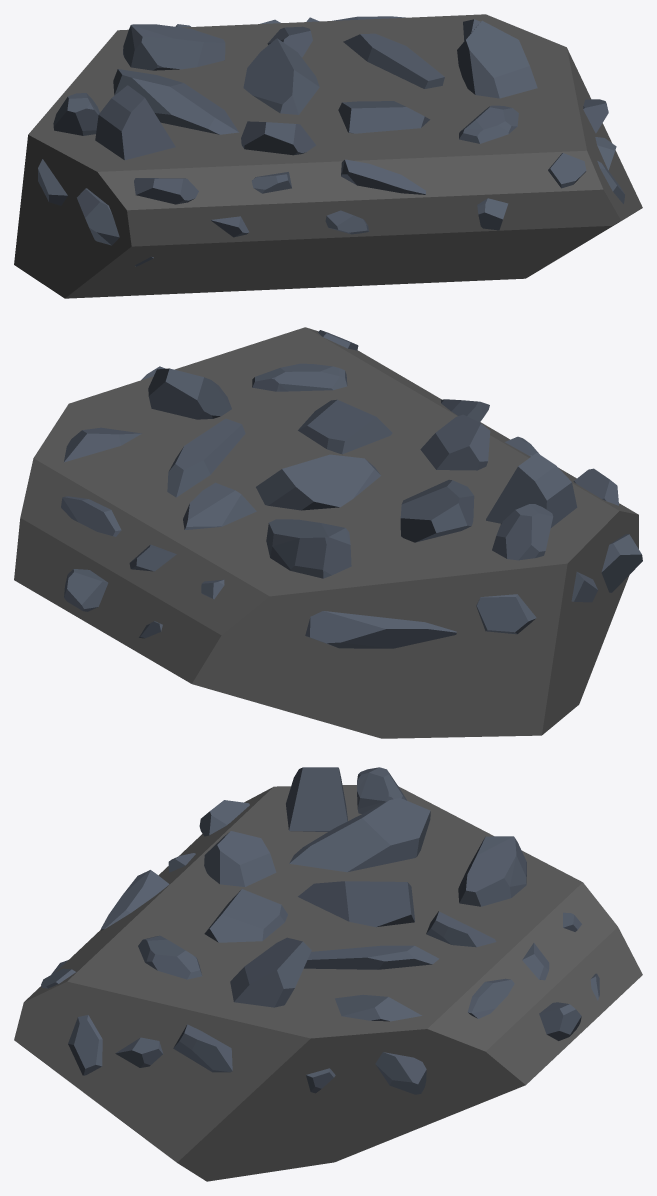
The model's file is Metal_Deposit_C_UVs.fbx.
The picture shows the model from 3 angles, top to bottom: view 1: azimuth 30°, elevation 25°; view 2: azimuth 150°, elevation 25°; view 3: azimuth 270°, elevation 25°; orthographic projection. The views are drawn at different scales.
Parts seen in each view (by area): view 1: SM_Metal_C; view 2: SM_Metal_C; view 3: SM_Metal_C.
Part boxes in pixels (<box>): SM_Metal_C: <box>14,14,642,298</box>; SM_Metal_C: <box>14,327,642,738</box>; SM_Metal_C: <box>14,767,642,1181</box>.
Size of the model in its own units: 509 by 190 by 524.
